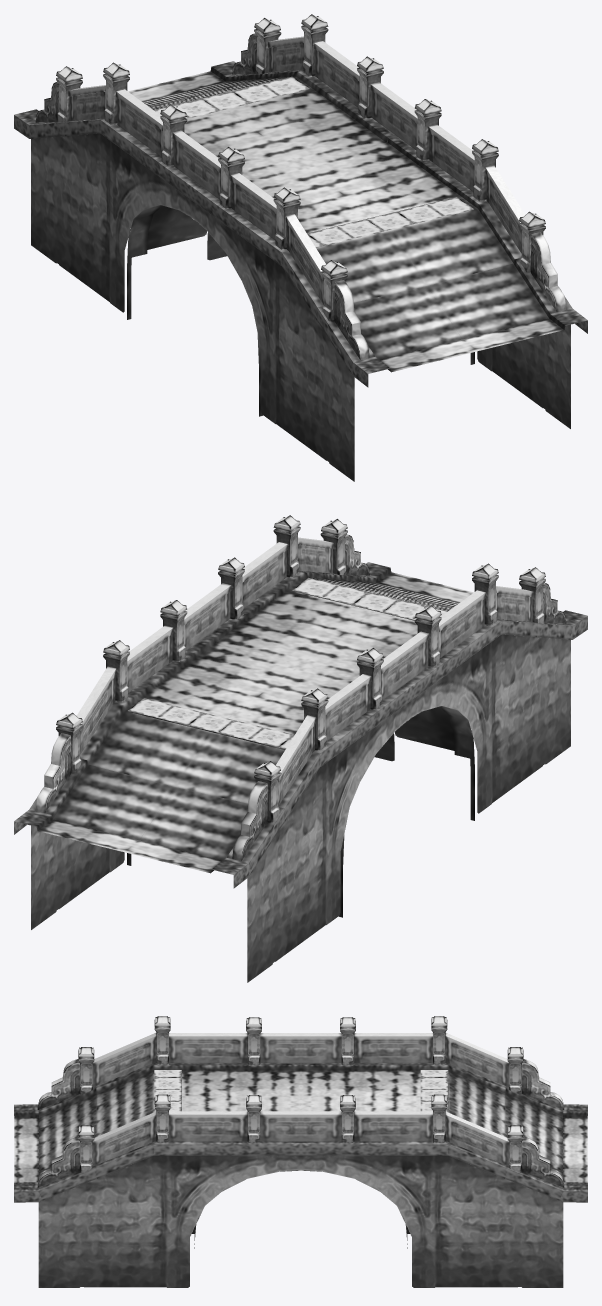
File: qiao.FBX
The picture shows the model from 3 angles, top to bottom: view 1: azimuth 30°, elevation 25°; view 2: azimuth 150°, elevation 25°; view 3: azimuth 270°, elevation 25°; orthographic projection. The views are drawn at different scales.
Visible parts, largest first — view 1: S1_qiao01a_tf, S1_qiao01b_tf; view 2: S1_qiao01a_tf, S1_qiao01b_tf; view 3: S1_qiao01a_tf, S1_qiao01b_tf.
Boxes of the visible parts, left/top/right/bottom form: S1_qiao01a_tf: left=31, top=14, right=570, bottom=481; S1_qiao01b_tf: left=14, top=61, right=587, bottom=387; S1_qiao01a_tf: left=31, top=515, right=570, bottom=982; S1_qiao01b_tf: left=14, top=562, right=587, bottom=888; S1_qiao01a_tf: left=37, top=1016, right=564, bottom=1287; S1_qiao01b_tf: left=14, top=1063, right=587, bottom=1202.
Size of the model in its own units: 1014 by 1053 by 2830.
